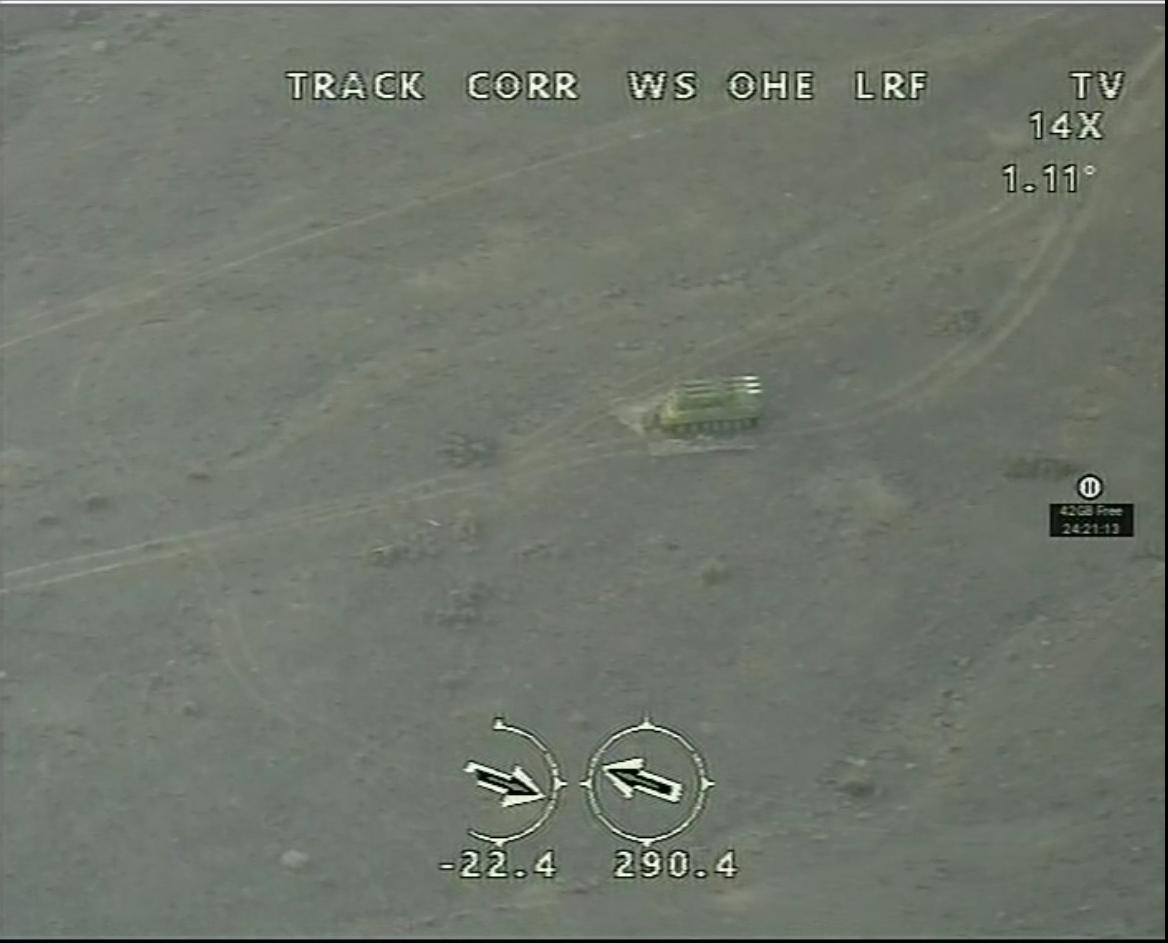armored_car: (654, 372, 770, 438)
